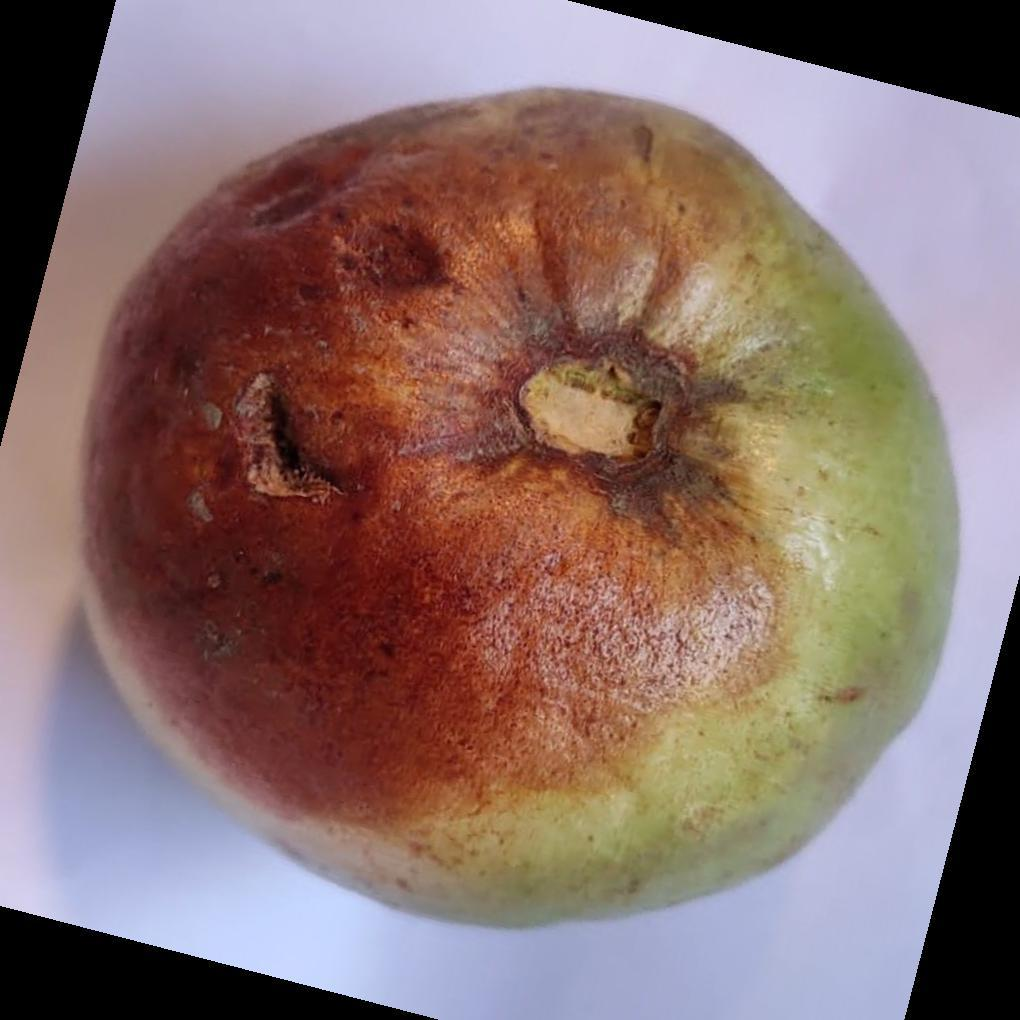FreshOrange: (77, 86, 963, 935)
